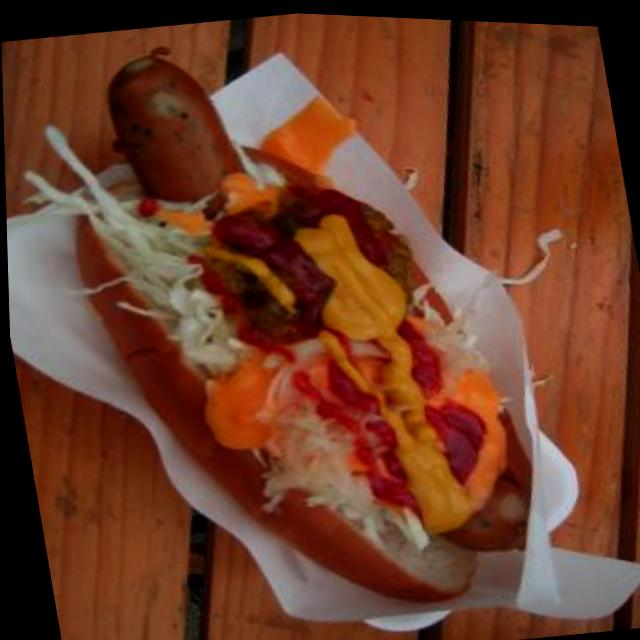汉堡快餐: (49, 6, 547, 640)
